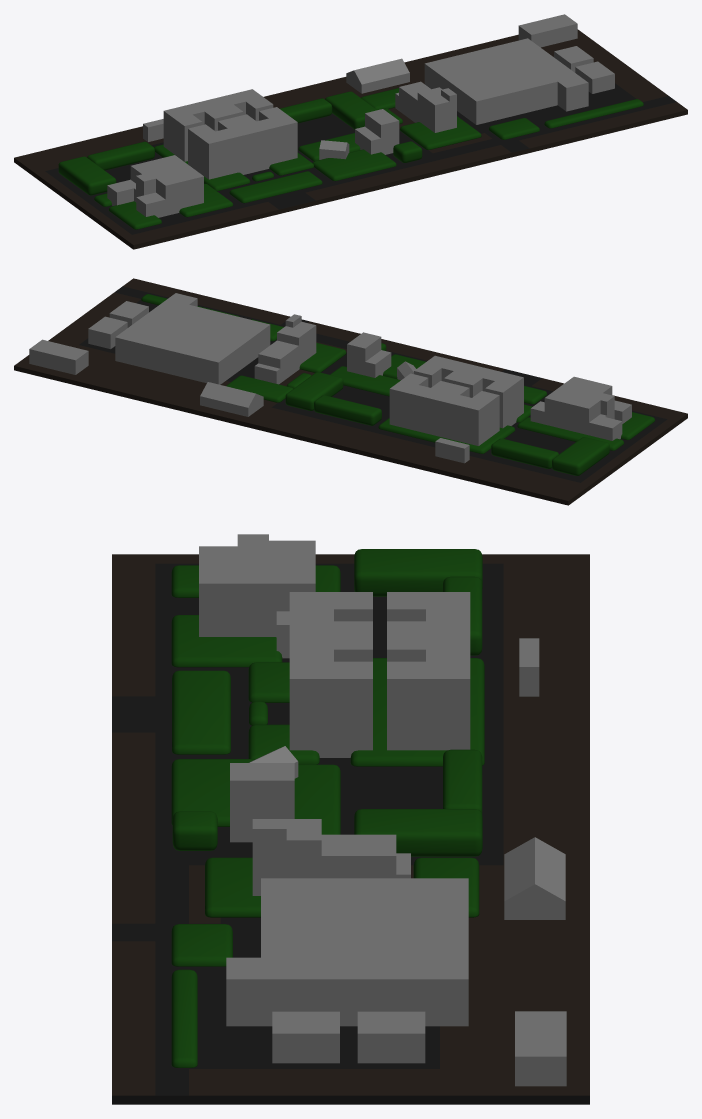
Rendered from Administration Building Area_middle.fbx.
The picture shows the model from 3 angles, top to bottom: view 1: azimuth 30°, elevation 25°; view 2: azimuth 150°, elevation 25°; view 3: azimuth 270°, elevation 25°; orthographic projection. The views are drawn at different scales.
Parts seen in each view (by area): view 1: Admin_m; view 2: Admin_m; view 3: Admin_m.
Boxes of the visible parts, x1,y1,x2,y2 form: Admin_m: (14,14,687,249); Admin_m: (14,278,687,505); Admin_m: (112,534,589,1104).
Size of the model in its own units: 61.63 by 4.68 by 23.01.
